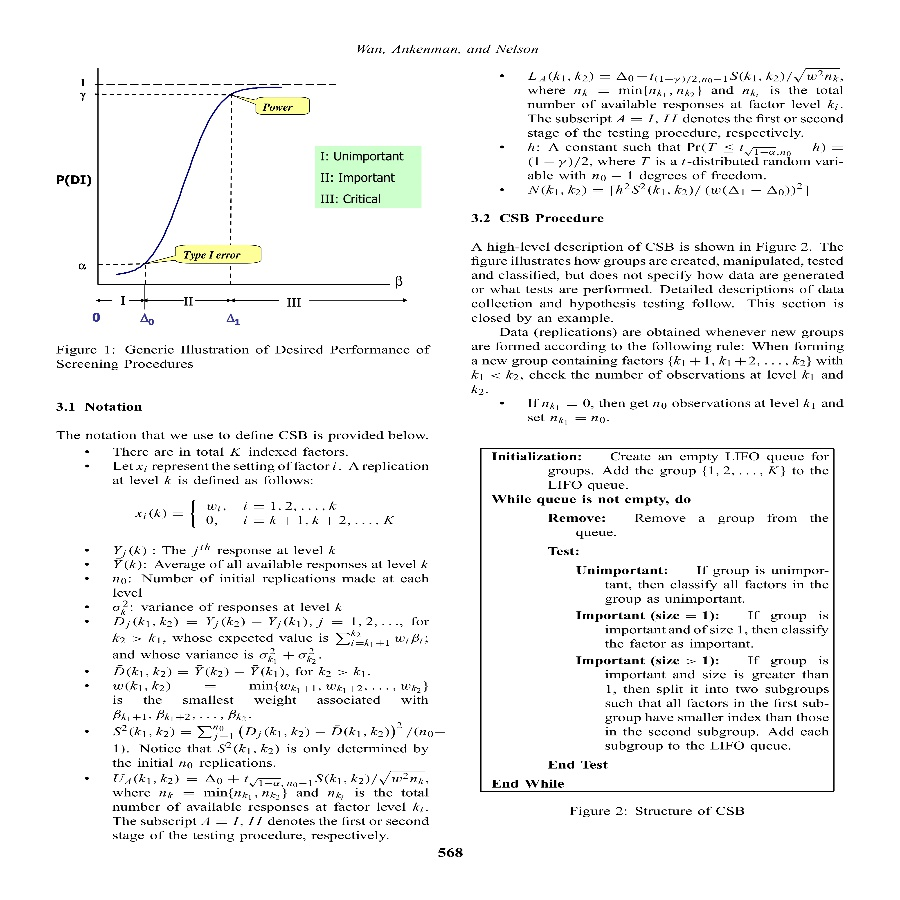eq: (134, 495, 396, 534)
